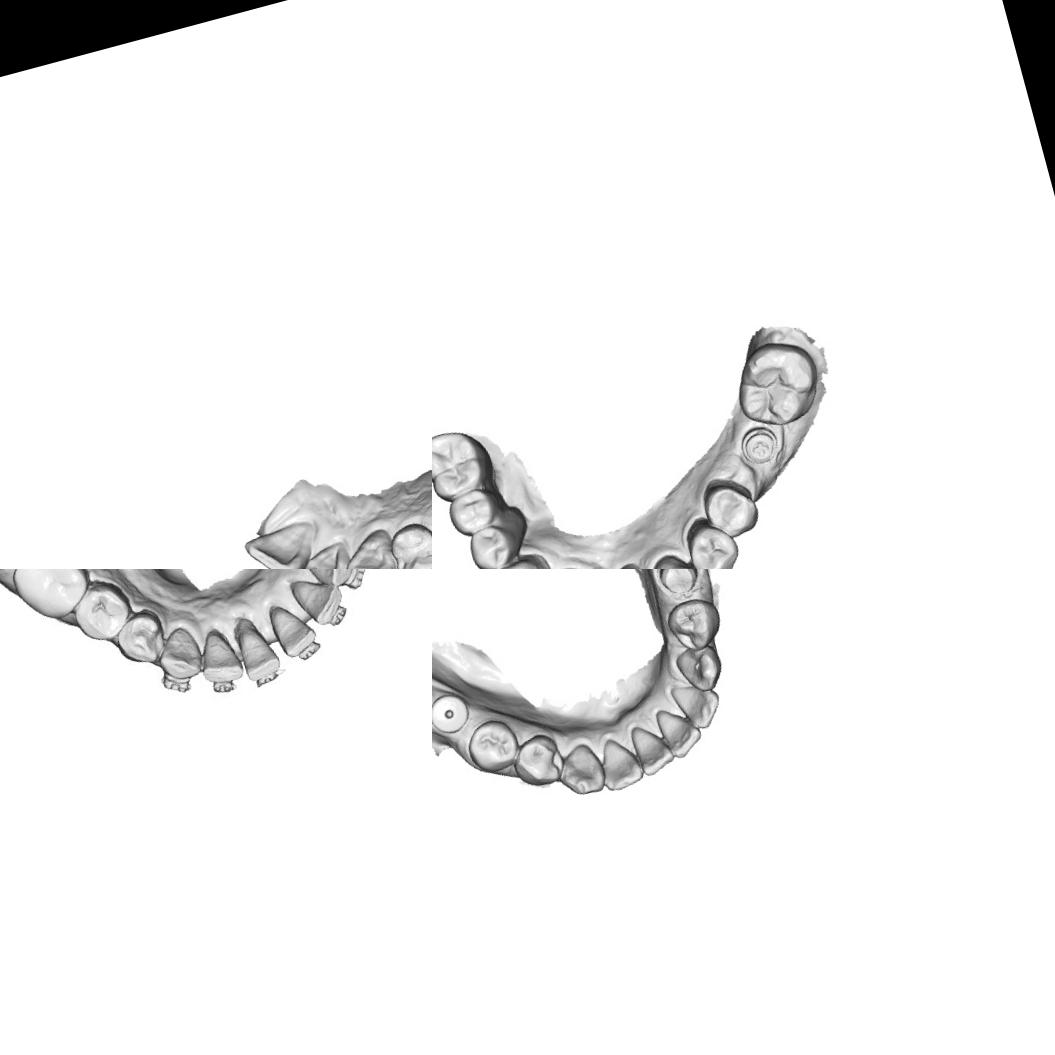canine: (551, 739, 609, 801), (152, 625, 206, 687), (671, 640, 727, 698), (338, 522, 402, 569), (646, 544, 716, 569), (299, 569, 362, 596), (472, 555, 549, 569)
crown: (651, 569, 705, 600)
implant: (432, 687, 474, 738)
implant_plus: (736, 420, 786, 469)
incisor: (239, 512, 329, 569), (284, 569, 351, 635), (229, 615, 287, 686), (668, 674, 726, 734), (268, 596, 319, 663), (591, 730, 646, 792), (192, 627, 246, 690), (652, 700, 706, 762), (627, 717, 678, 778), (293, 533, 360, 569)
molar: (724, 332, 830, 435), (3, 569, 97, 630), (432, 420, 497, 508)
premolar: (65, 575, 136, 649), (698, 470, 764, 542), (105, 602, 172, 672), (460, 713, 525, 778), (662, 592, 728, 656), (679, 509, 745, 569), (507, 729, 566, 791), (442, 482, 504, 540), (459, 518, 524, 569), (380, 514, 432, 569)
